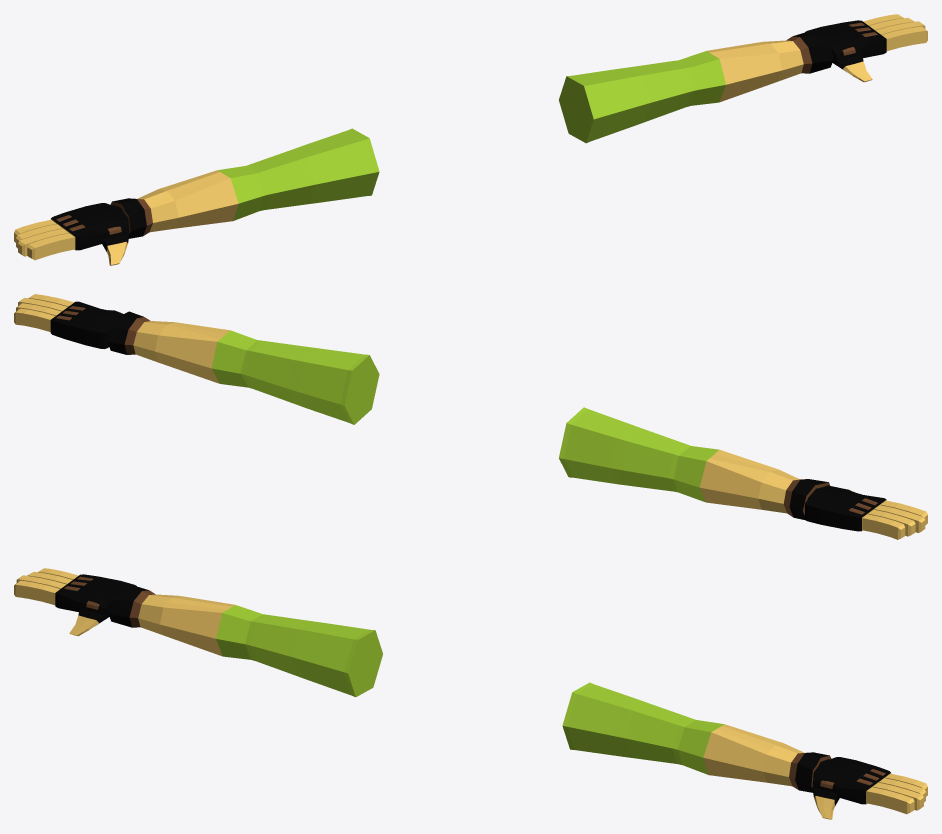
File: playerArm.glb
3 renders of one model, top to bottom at view 1: azimuth 30°, elevation 25°; view 2: azimuth 150°, elevation 25°; view 3: azimuth 330°, elevation 25°, orthographic.
Parts seen in each view (by area): view 1: Object_2; view 2: Object_2; view 3: Object_2.
Part boxes in pixels (x1,y1,x2,y2): Object_2: [14, 14, 927, 265]; Object_2: [14, 294, 927, 539]; Object_2: [14, 568, 927, 819].
Bounding box in the file's own units: 10.01 × 0.6246 × 0.7766.
Materials: 1 (1 with a texture image).
